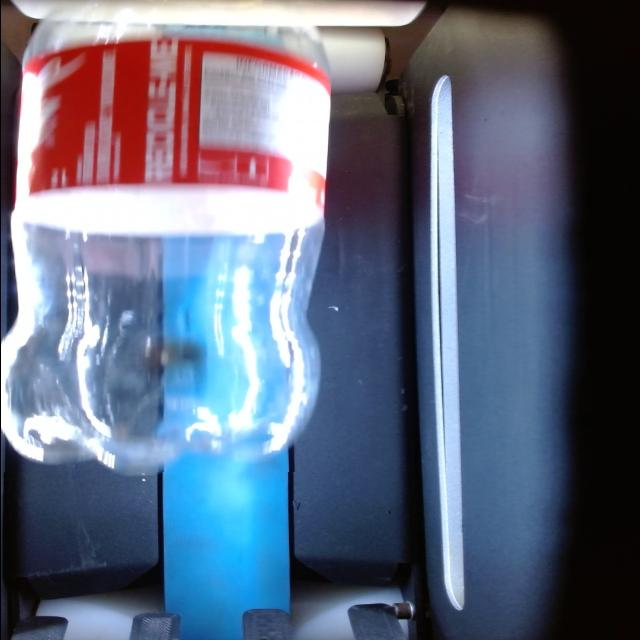bottle: (3, 22, 329, 472)
